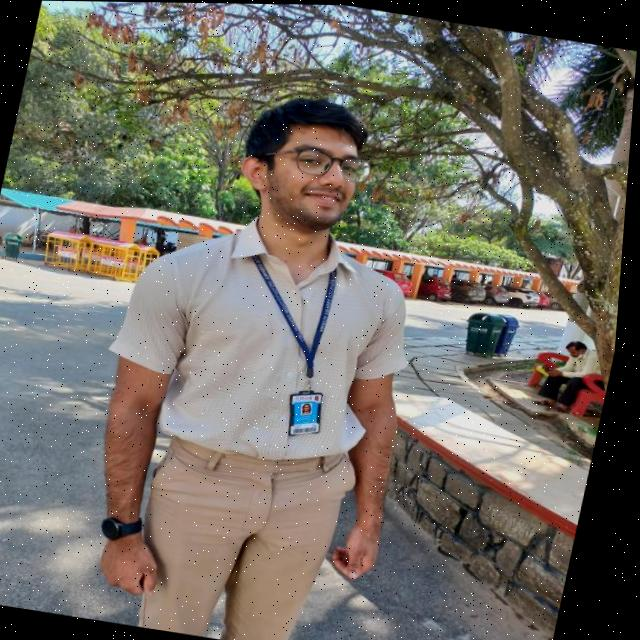id_card: (224, 234, 371, 441)
